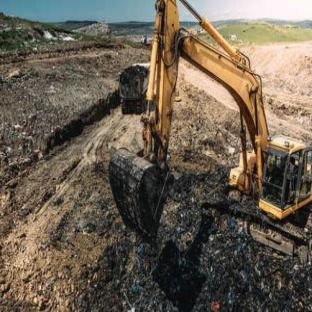ExcavationMachinery: (120, 1, 312, 276)
